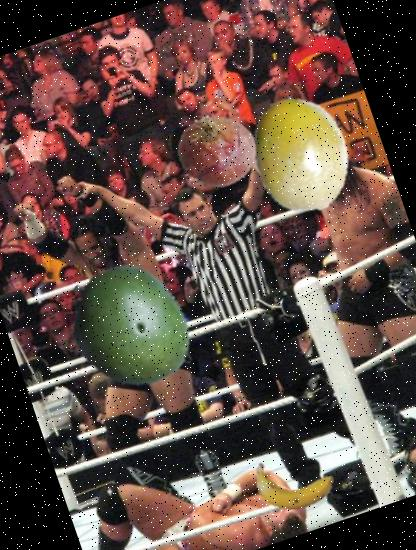Banana: (246, 435, 344, 534)
Mango: (45, 242, 213, 410)
Maracuja: (227, 80, 376, 229)
Onion: (162, 95, 268, 201)
